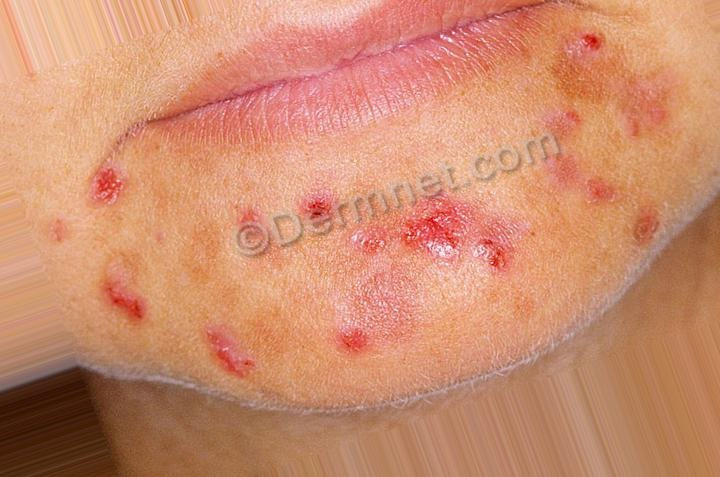Acne: (86, 25, 679, 402)
